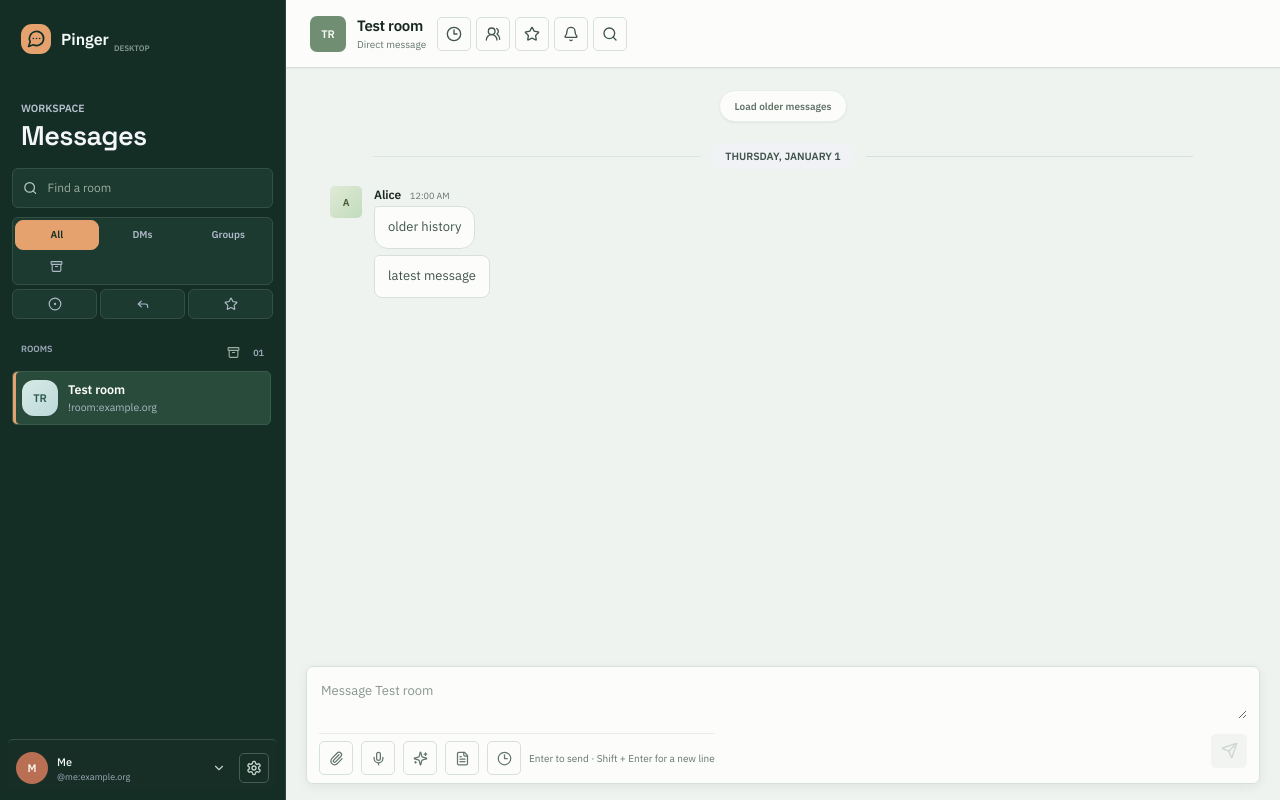
room history updates › translates a message into the composer using the configured language
Expected: the text "latest message" is shown, [388, 266, 476, 287]
Right-click the element showing "latest message": (432, 276) [374, 255, 490, 298]
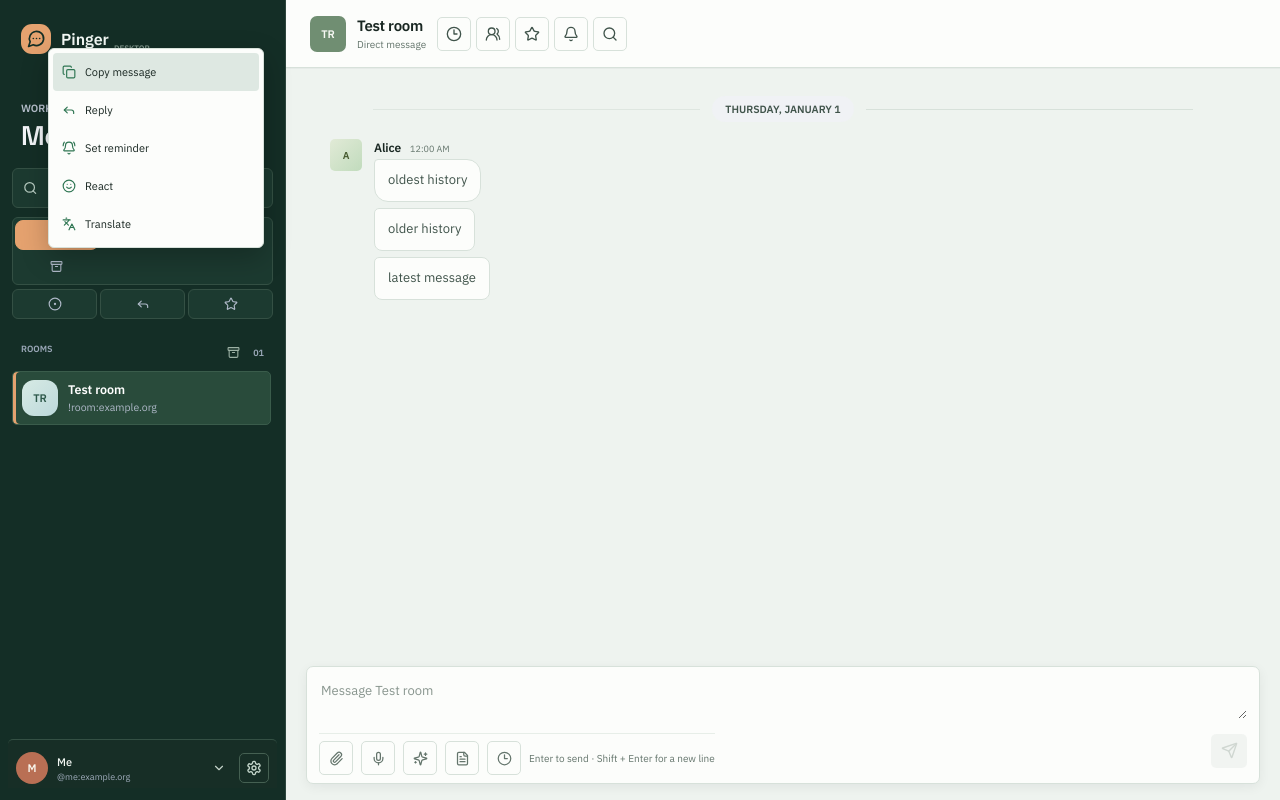
Click the menu item with aria-label "Translate message with local AI": (156, 224) [53, 205, 259, 243]
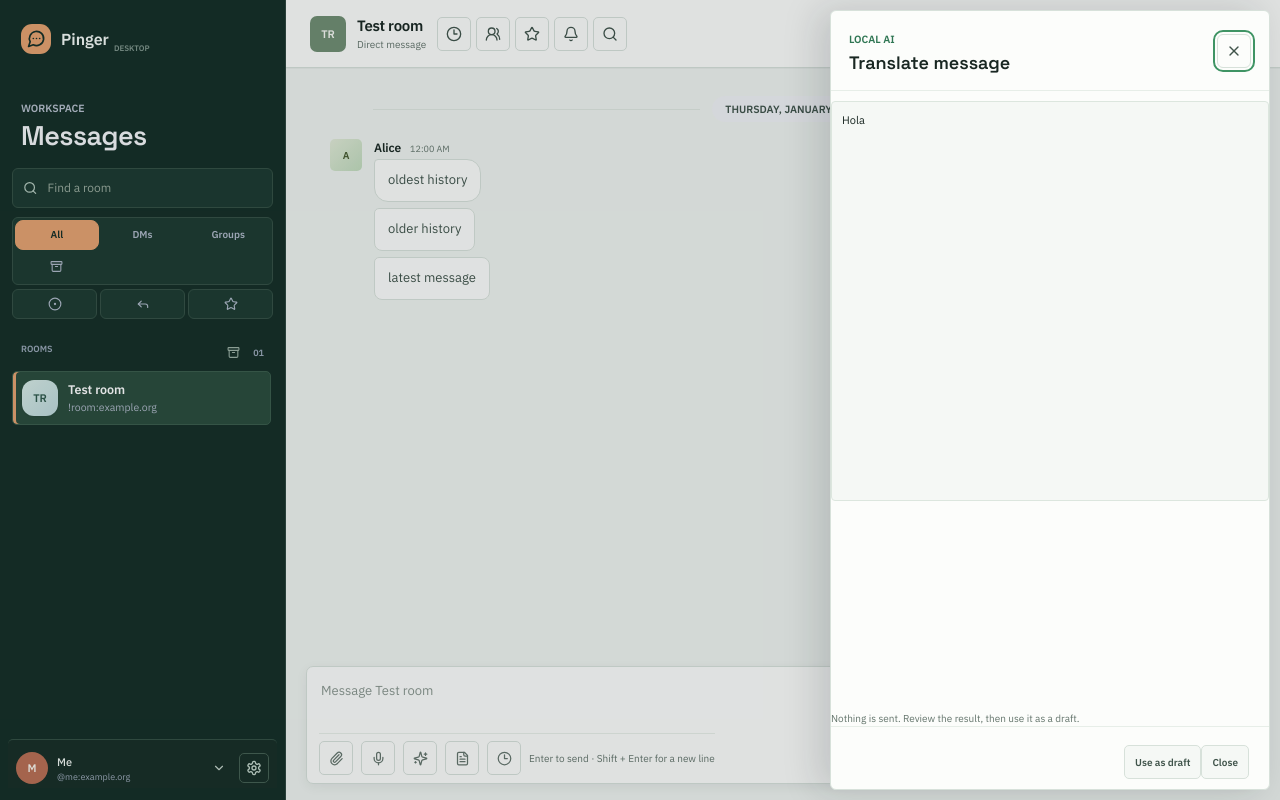
Result: the text "Hola" is shown at [831, 101, 1269, 501]
Click the button "Use as draft": (1163, 762) [1124, 745, 1201, 779]
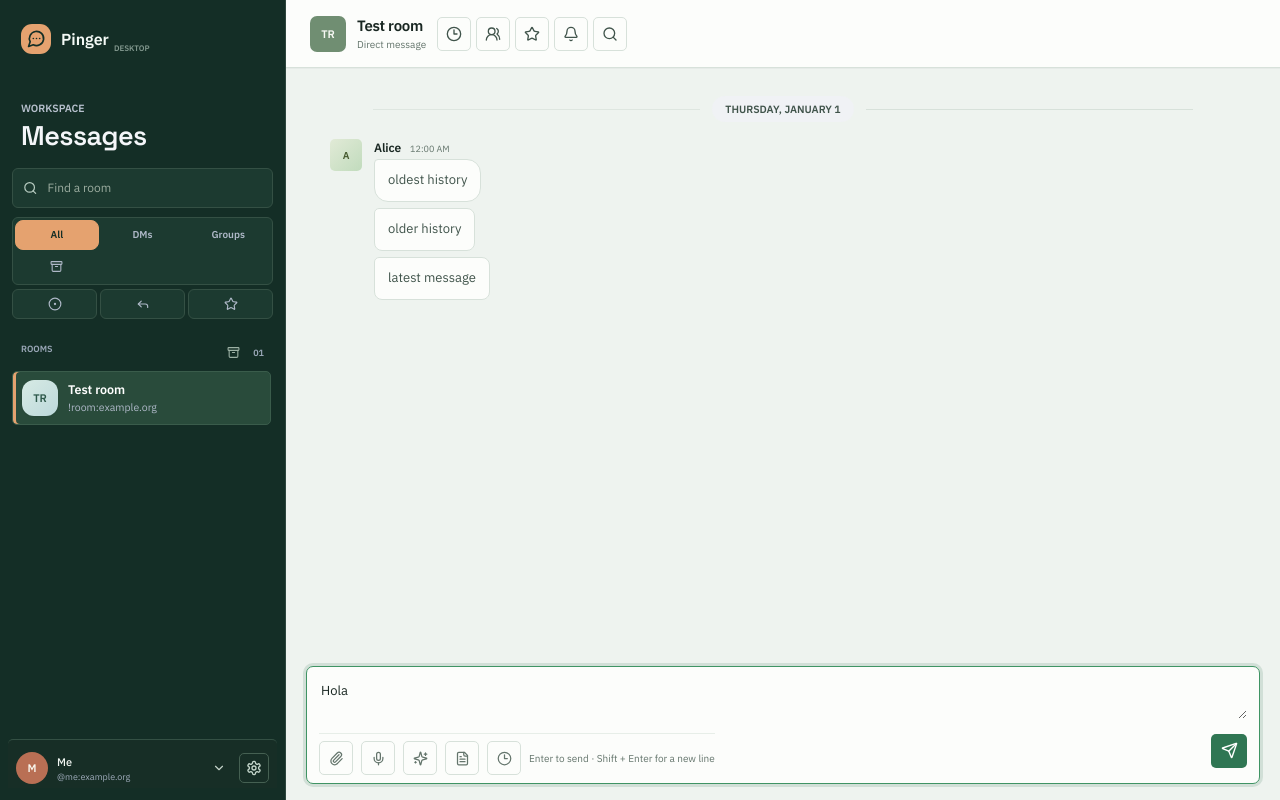
Result: the text box named "Message" holds "Hola" at [319, 677, 1247, 719]
